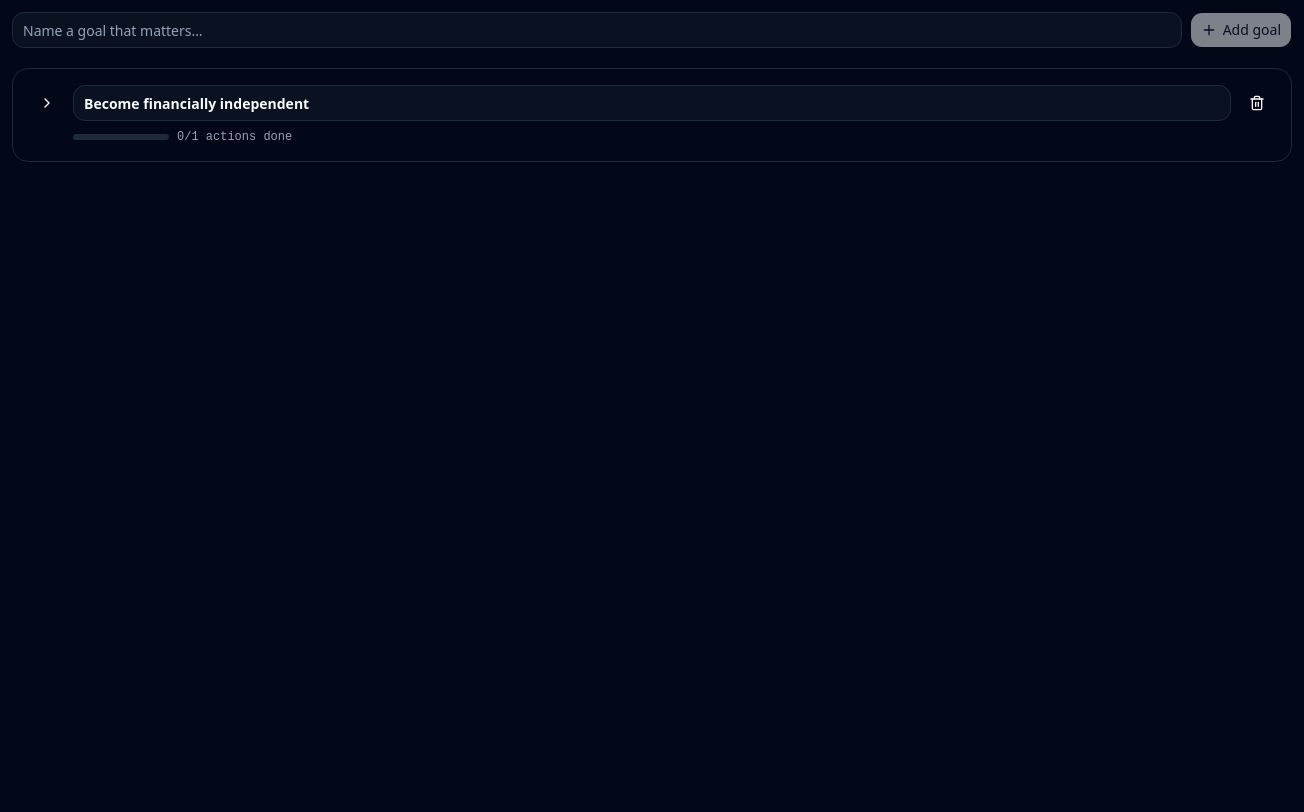
Test case: GoalBreakdownTool › keeps the edited goal on screen when the save fails
Step 1. Click the button named "open become financially independent" → point(47, 103), box 29,85 -> 65,121
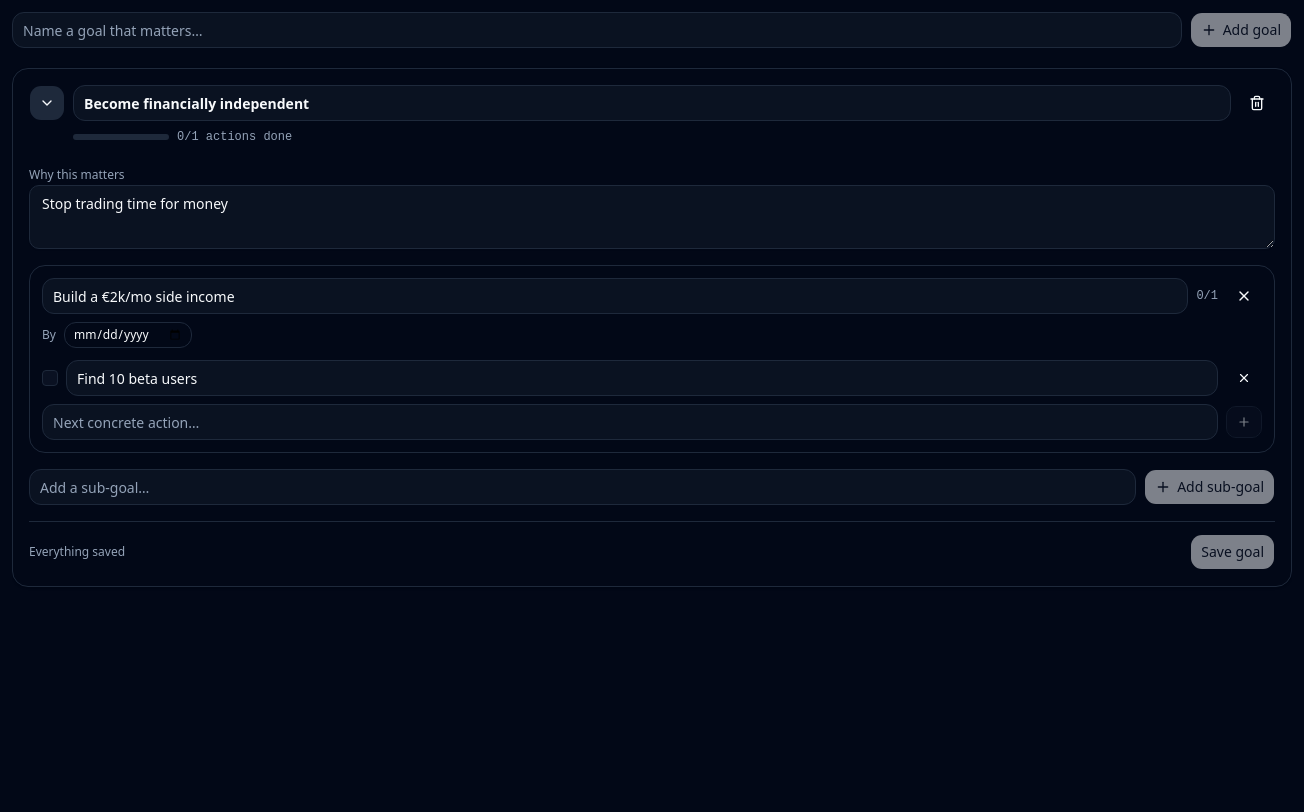
Step 2. Replace the text in the field showing "Become financially independent" with "Reach financial independence" → point(652, 103), box 73,85 -> 1231,121
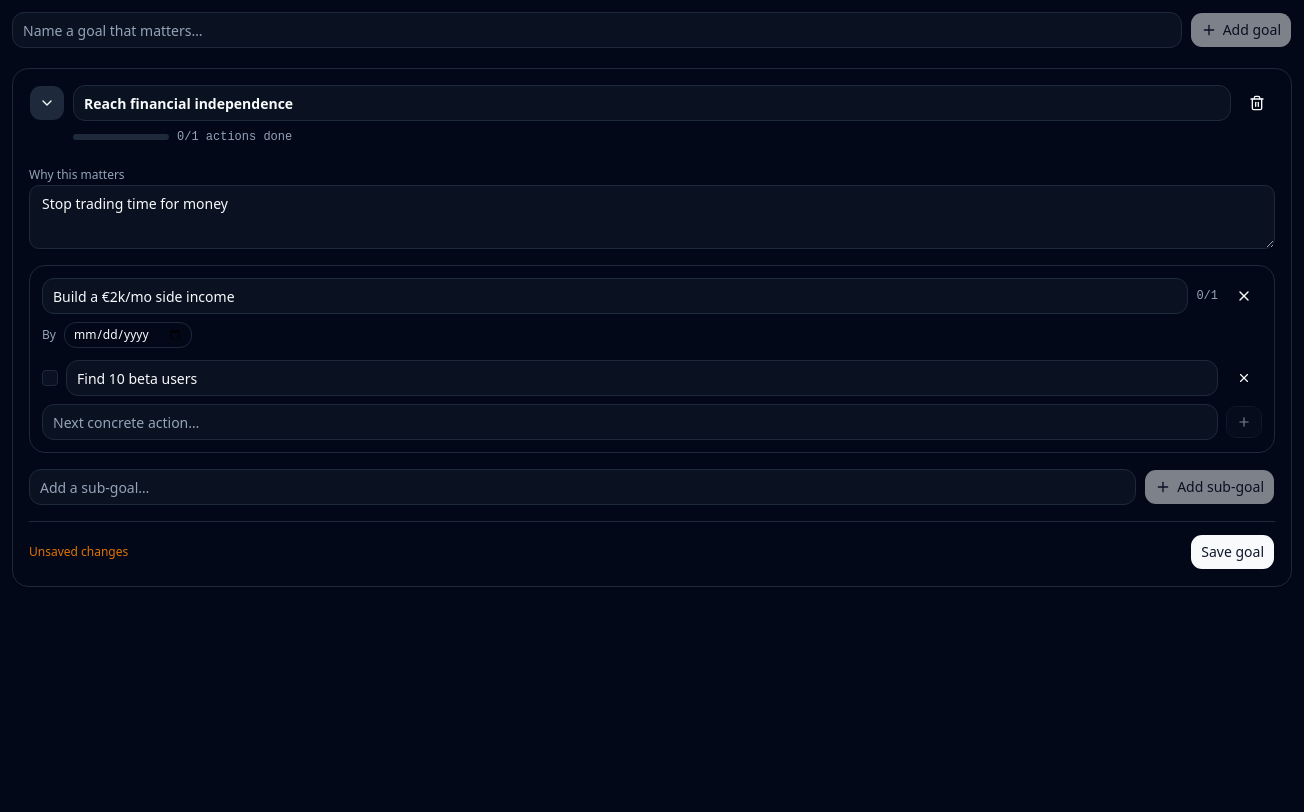
Step 3. Click the button "Save goal" → point(1233, 552), box 1190,534 -> 1275,570
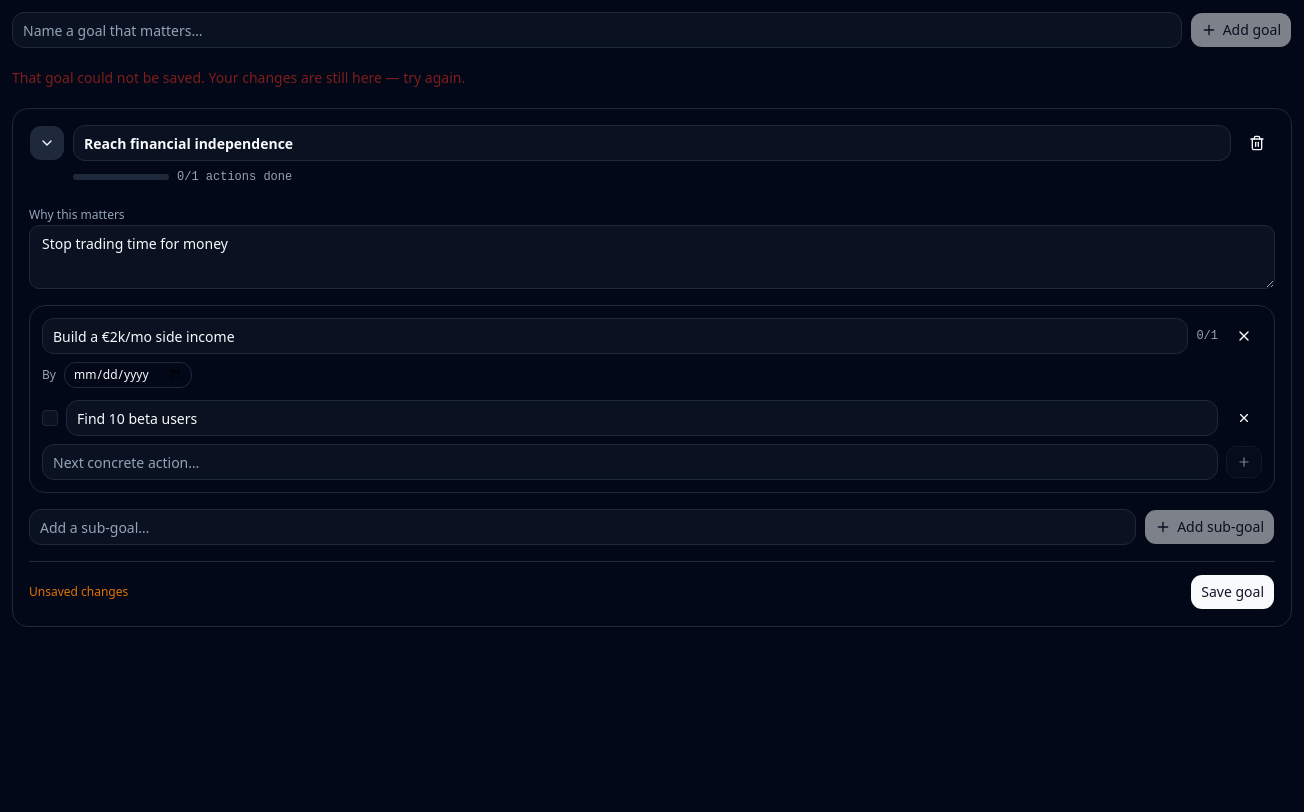
expect the message "That goal could not be saved. Your changes are still here — try again." is shown: met, box 12,68 -> 465,87
